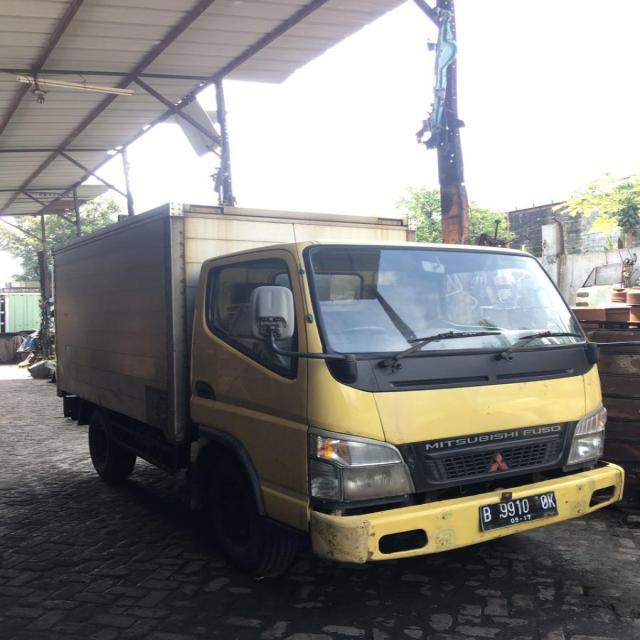car: (51, 201, 639, 566)
